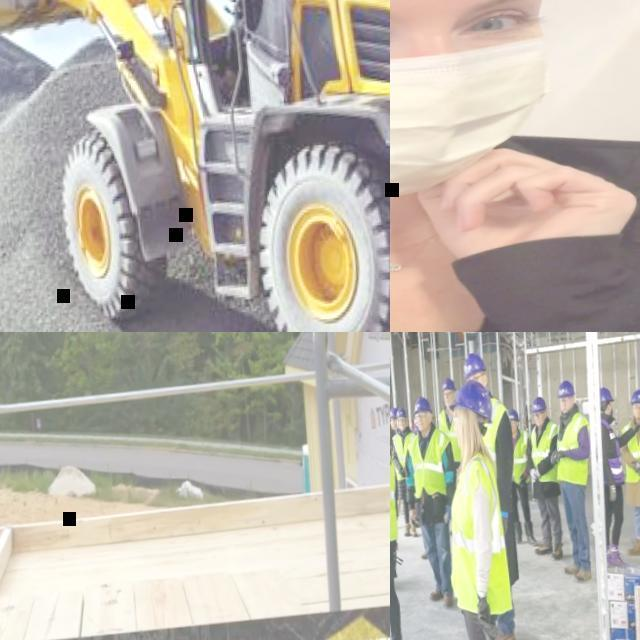helmet: (446, 378, 494, 430), (461, 352, 488, 381), (410, 396, 432, 417), (555, 380, 576, 400), (529, 397, 547, 414), (440, 378, 458, 393), (598, 388, 614, 404), (507, 408, 521, 425), (629, 389, 640, 406), (395, 406, 407, 419), (390, 407, 398, 420), (524, 404, 532, 411), (413, 417, 418, 428)
